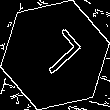L_SW: (27, 27, 83, 83)
